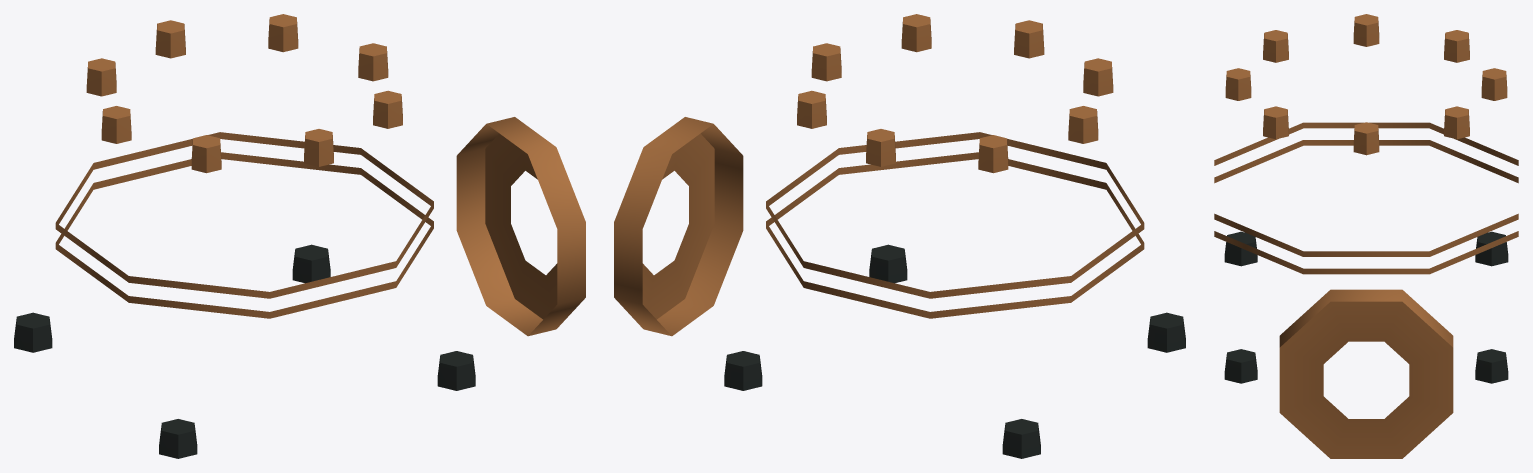
File: valve_wheel_detail1m.glb
3 views of the same model, side by side, from view 1: azimuth 30°, elevation 25°; view 2: azimuth 150°, elevation 25°; view 3: azimuth 270°, elevation 25° (orthographic). The views are drawn at different scales.
Parts seen in each view (by area): view 1: MountDetail1; view 2: MountDetail1; view 3: MountDetail1.
Part boxes in pixels (bbox=[...]): MountDetail1: bbox=[14, 14, 585, 458]; MountDetail1: bbox=[614, 14, 1185, 458]; MountDetail1: bbox=[1214, 14, 1518, 458].
Size of the model in its own units: 1.65 by 1.06 by 1.12.
